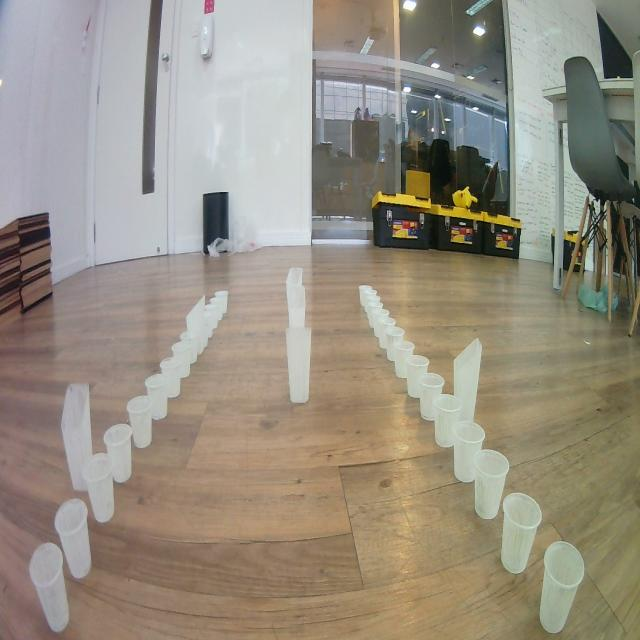erva_daninha: (61, 383, 93, 492), (453, 338, 483, 423), (286, 327, 312, 404), (186, 295, 206, 347), (288, 285, 306, 328), (286, 267, 303, 309)
planta: (539, 541, 586, 634), (29, 542, 70, 632), (501, 493, 542, 575), (54, 498, 92, 580), (473, 449, 509, 520), (82, 453, 115, 523), (452, 420, 486, 484), (103, 423, 133, 484), (432, 393, 463, 448), (127, 395, 153, 449), (418, 372, 445, 421), (144, 372, 168, 420), (405, 354, 430, 398), (160, 357, 181, 398), (393, 341, 415, 378), (172, 341, 192, 379), (386, 326, 406, 362), (180, 331, 198, 364), (378, 317, 396, 349), (192, 321, 208, 355), (373, 309, 390, 338), (364, 295, 380, 320), (368, 302, 383, 328), (362, 290, 377, 313), (200, 312, 213, 338), (210, 298, 224, 321), (205, 305, 218, 329), (216, 290, 228, 314), (359, 285, 372, 307)
